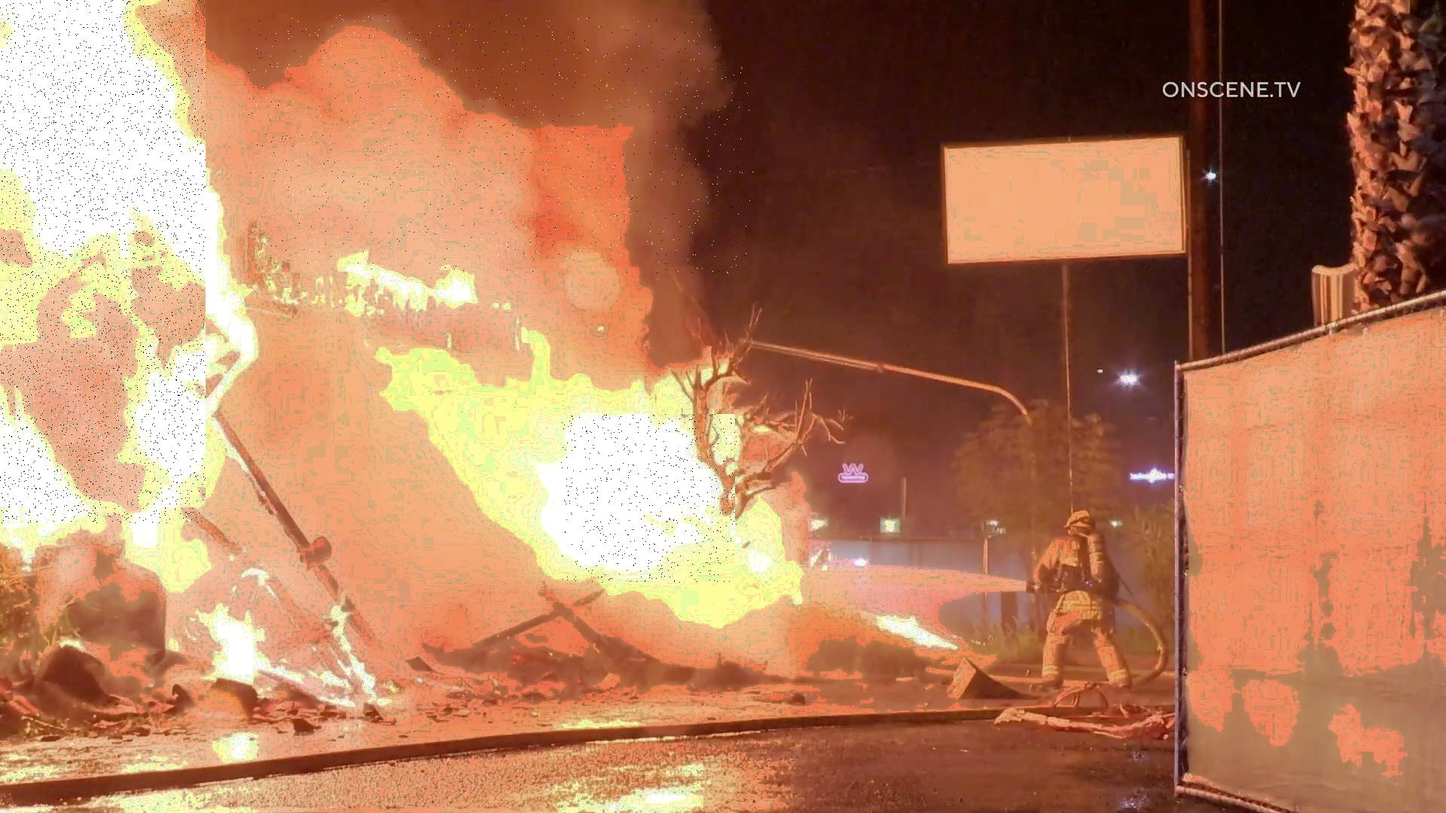fire: (0, 0, 206, 523), (562, 414, 737, 583)
smoke: (245, 15, 754, 273)
